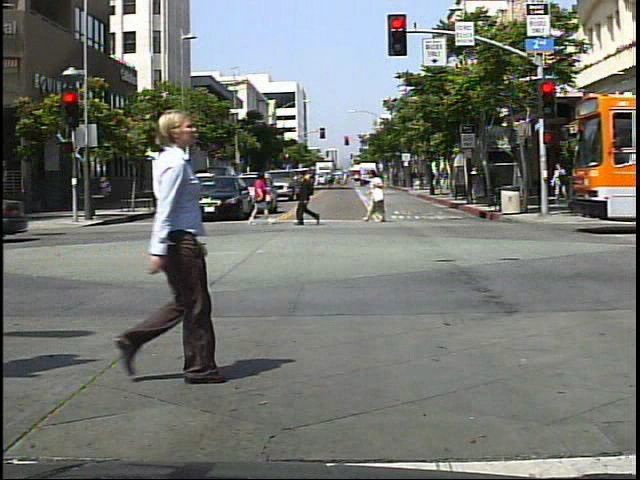person: (84, 92, 252, 401), (293, 161, 326, 231), (243, 168, 274, 227), (365, 167, 394, 227), (552, 160, 570, 206)
